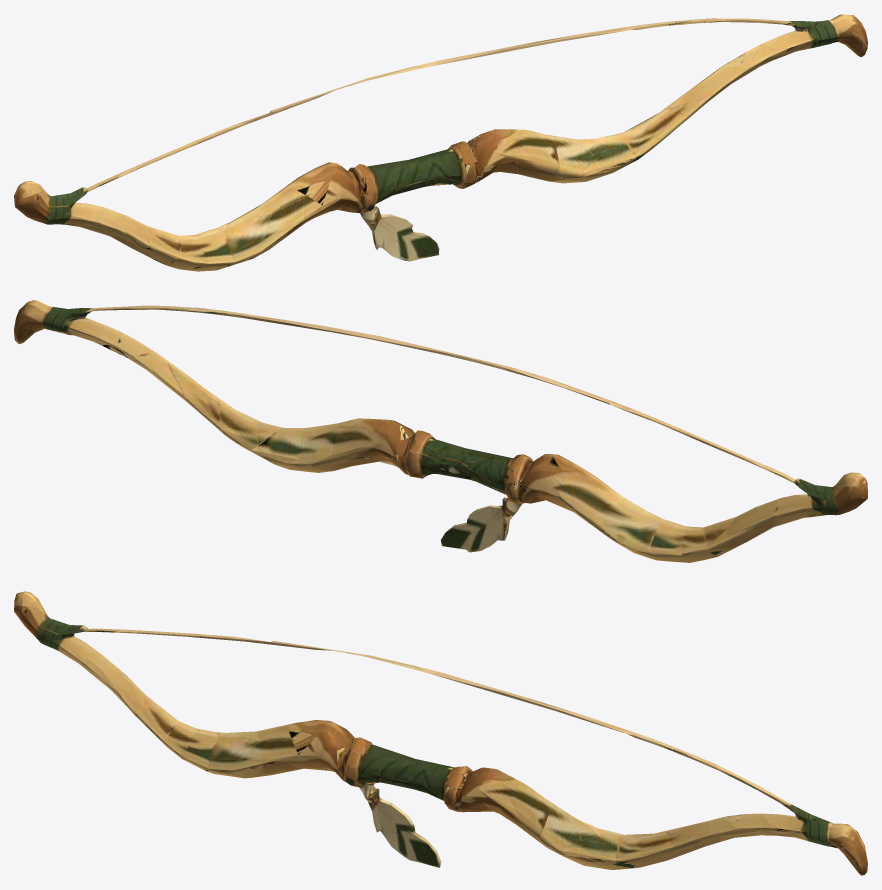
Rendered from wind-archer-bow.low.glb.
The picture shows the model from 3 angles, top to bottom: view 1: azimuth 30°, elevation 25°; view 2: azimuth 150°, elevation 25°; view 3: azimuth 330°, elevation 25°; orthographic projection.
Parts seen in each view (by area): view 1: output_unwrapped; view 2: output_unwrapped; view 3: output_unwrapped.
Boxes of the visible parts, x1,y1,x2,y2 form: output_unwrapped: [14, 14, 867, 271]; output_unwrapped: [14, 300, 867, 562]; output_unwrapped: [14, 591, 867, 875].
Size of the model in its own units: 1.91 by 0.4147 by 0.1081.
1 material, 1 textured.
